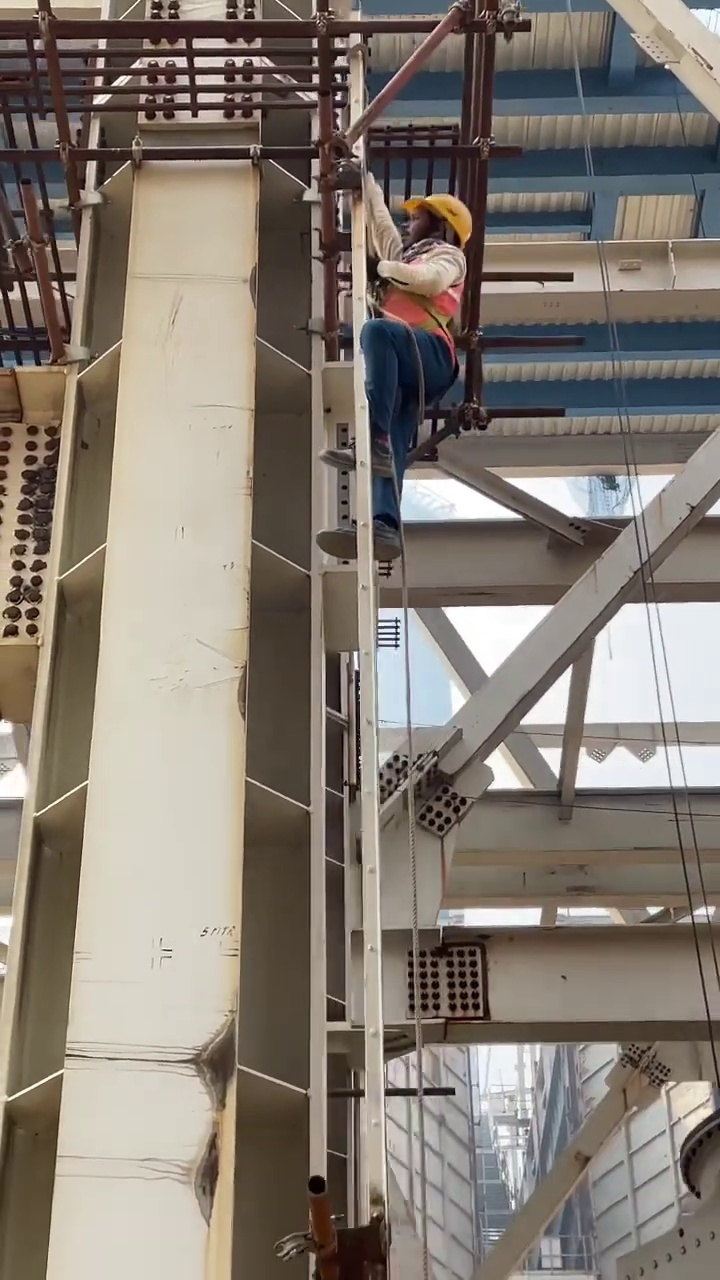Helmet: (405, 189, 471, 233)
Person: (309, 191, 474, 575)
Safety_Harness: (378, 247, 472, 421)
Safety_shoes: (314, 519, 400, 565), (323, 435, 395, 476)
